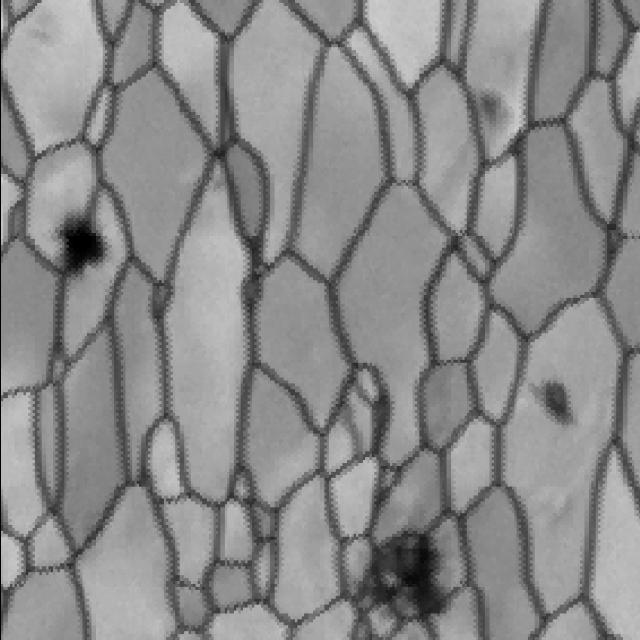good_void: (339, 515, 448, 640), (46, 209, 109, 285), (524, 369, 583, 434), (476, 78, 508, 131)
